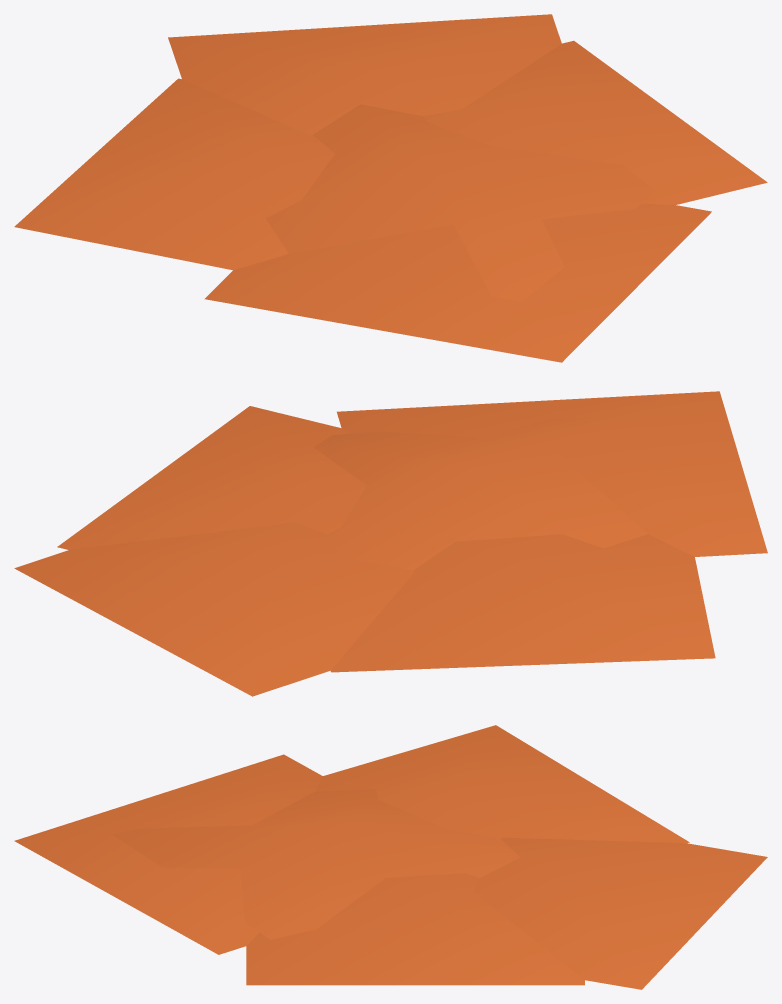
Rendered from FloorGrass_01.fbx.
3 renders of one model, top to bottom at view 1: azimuth 30°, elevation 25°; view 2: azimuth 150°, elevation 25°; view 3: azimuth 270°, elevation 25°, orthographic. The views are drawn at different scales.
Visible parts, largest first — view 1: Plane.001; view 2: Plane.001; view 3: Plane.001.
Boxes of the visible parts, <box> form: Plane.001: <box>14,14,767,362</box>; Plane.001: <box>14,391,767,696</box>; Plane.001: <box>14,725,767,989</box>.
Bounding box in the file's own units: 78.12 × 6.15 × 94.
